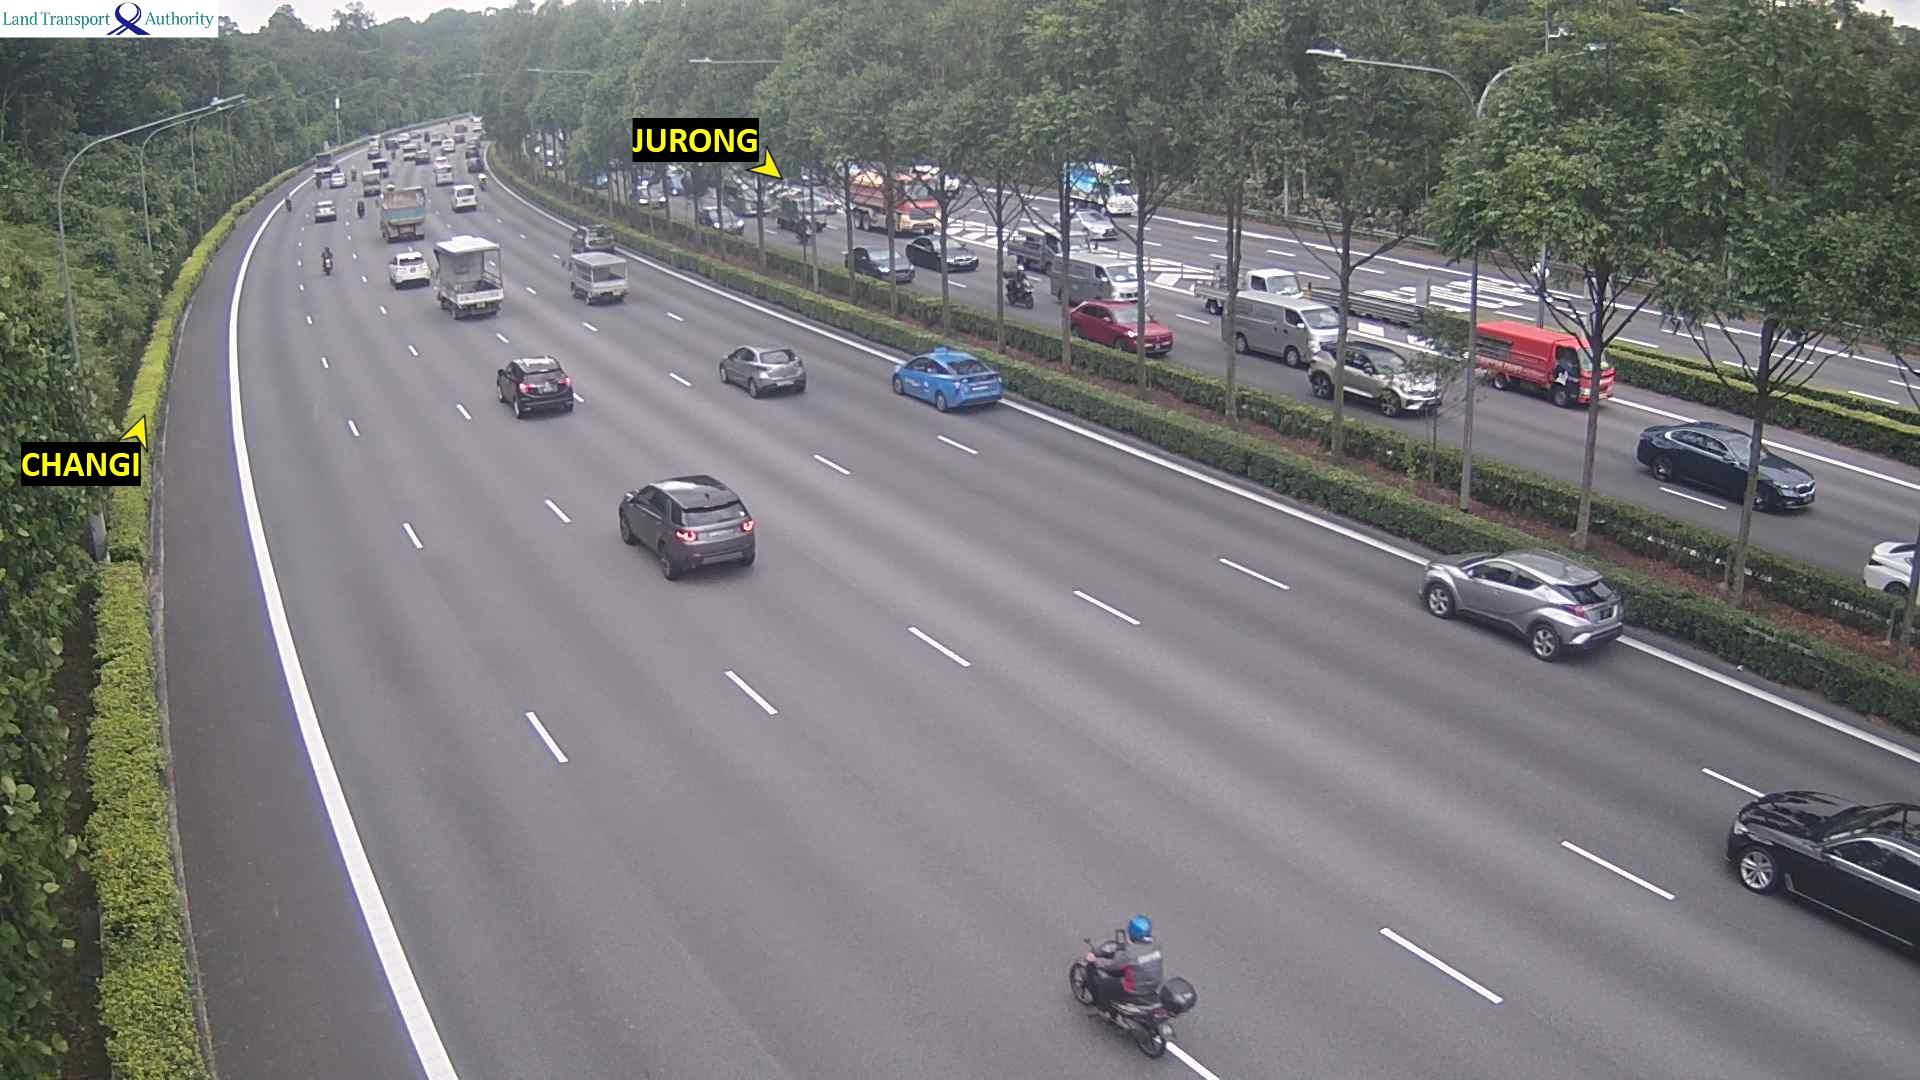incoming: (1732, 418, 1831, 513), (1362, 349, 1451, 416), (1553, 340, 1623, 415), (1104, 307, 1185, 365), (1292, 303, 1353, 365), (1091, 262, 1158, 311), (893, 181, 941, 235), (918, 235, 980, 273), (860, 247, 918, 287), (1104, 175, 1145, 219), (1253, 274, 1320, 300), (1070, 210, 1122, 240), (795, 199, 832, 236), (703, 210, 749, 236), (1015, 275, 1040, 310), (638, 187, 671, 209)
